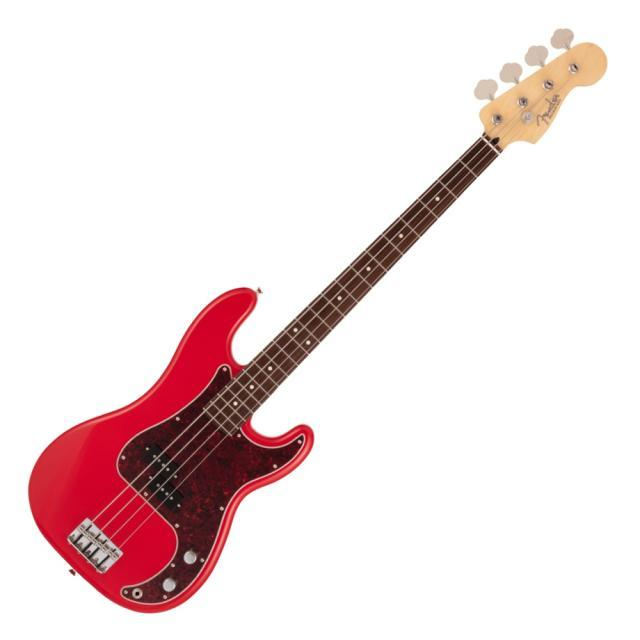bass: (29, 29, 605, 611)
